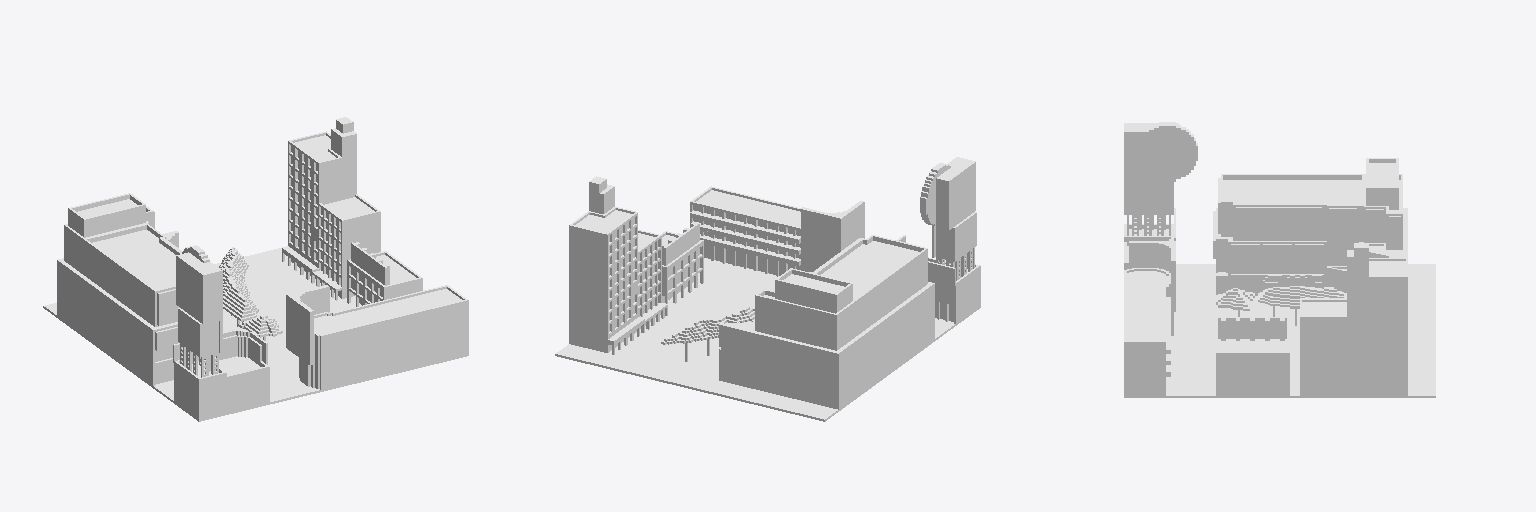
Rendered from YoungeandDundas.obj.
3 renders of one model, left to right at view 1: azimuth 30°, elevation 25°; view 2: azimuth 150°, elevation 25°; view 3: azimuth 270°, elevation 25°, orthographic.
Size of the model in its own units: 126 by 68 by 126.